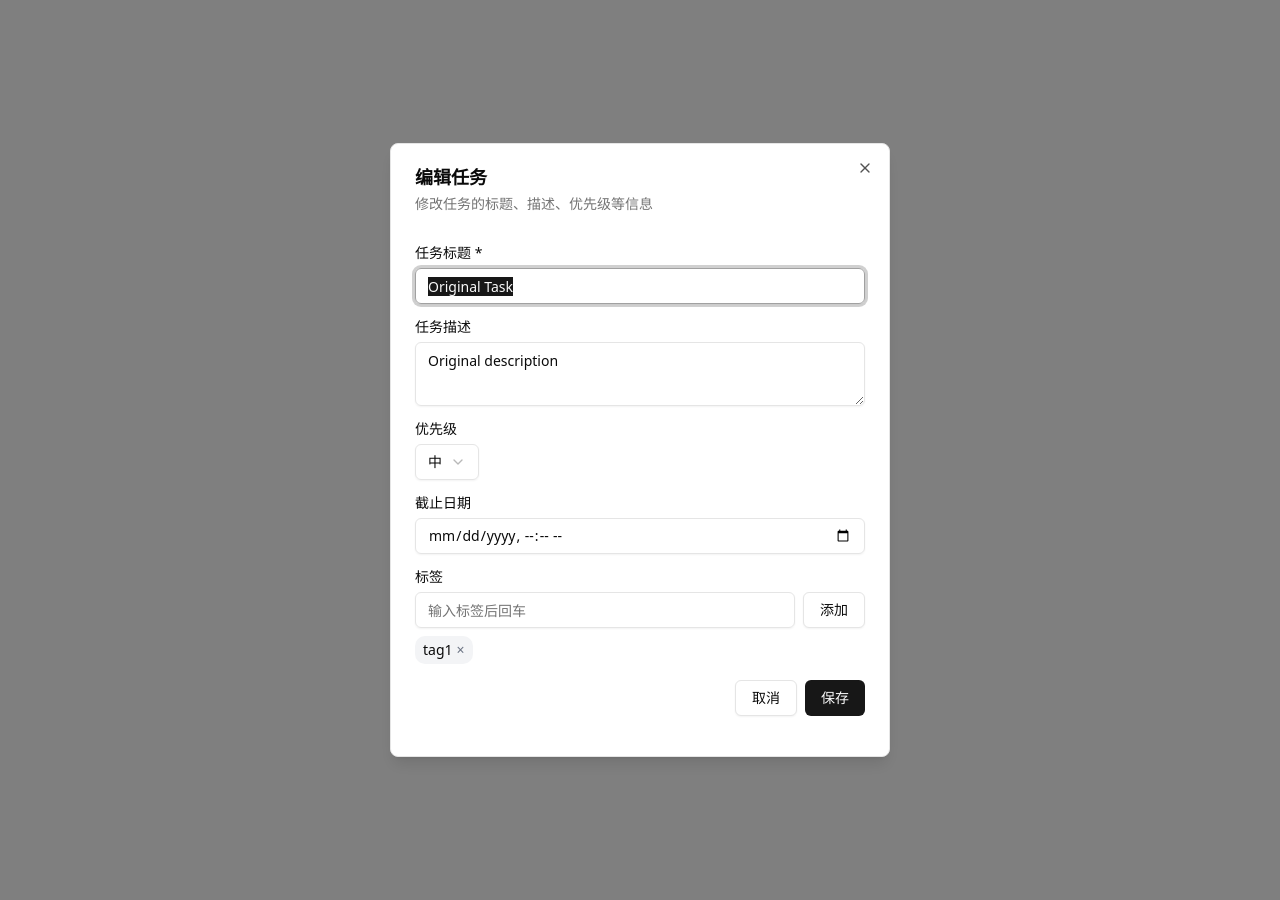
Test: TaskEditDialog › 应该验证必填字段
Clear the field showing "Original Task": (640,286) [415, 268, 865, 304]
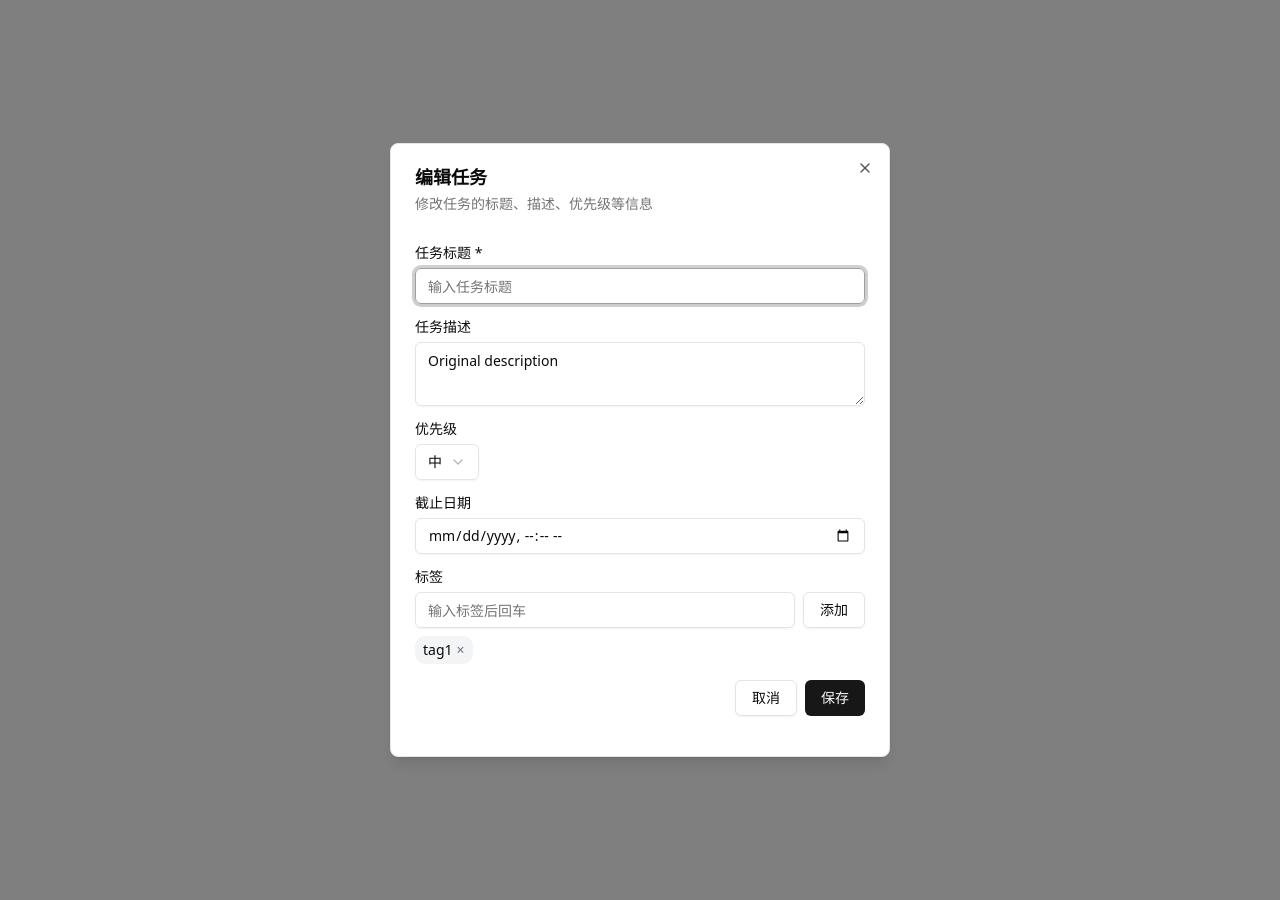
Click the button "保存": (835,698) [805, 680, 865, 716]
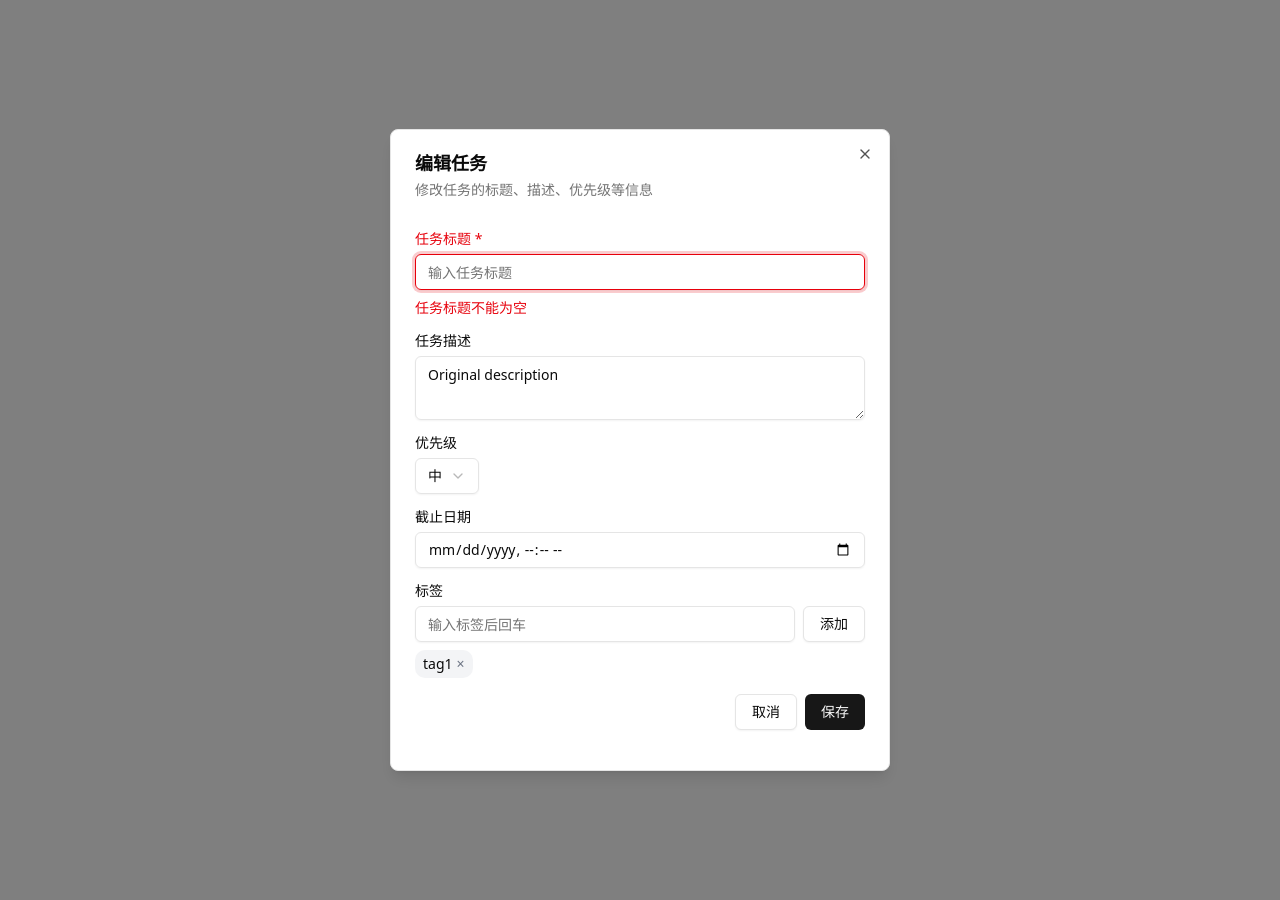
Expected: the text "任务标题不能为空" is shown, [415, 298, 527, 317]
